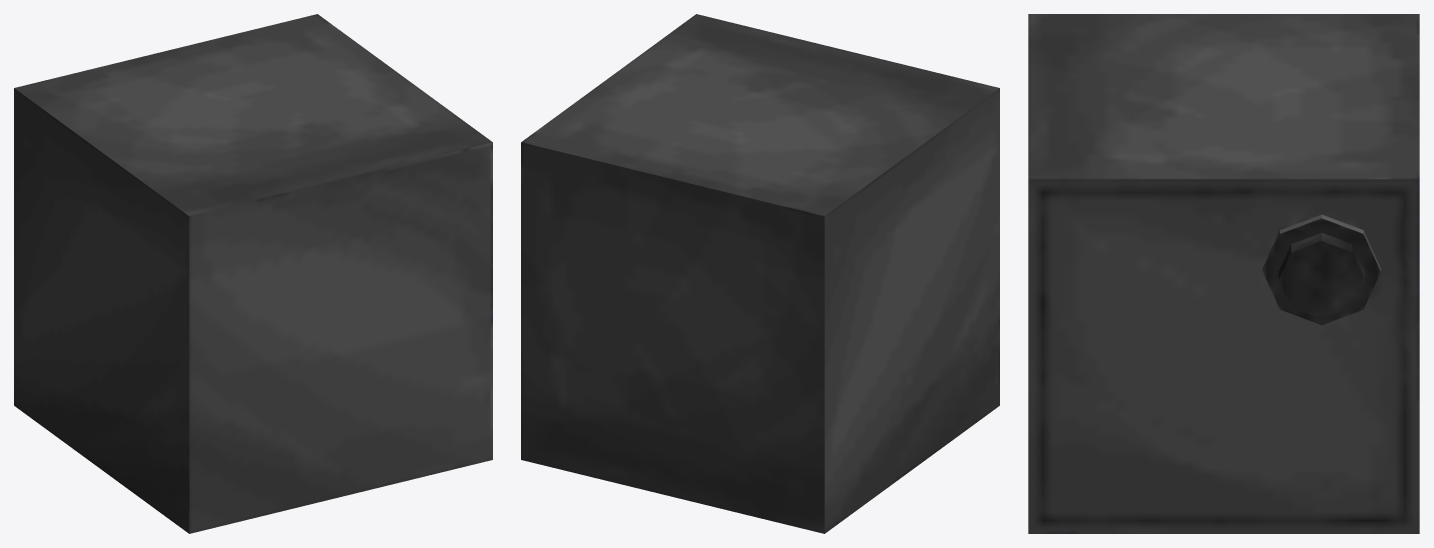
File: Safe.obj
The picture shows the model from 3 angles, left to right: view 1: azimuth 30°, elevation 25°; view 2: azimuth 150°, elevation 25°; view 3: azimuth 270°, elevation 25°; orthographic projection. The views are drawn at different scales.
Parts seen in each view (by area): view 1: Safe; view 2: Safe; view 3: Safe.
Part boxes in pixels (bbox=[...]): Safe: bbox=[14, 14, 492, 533]; Safe: bbox=[521, 14, 999, 533]; Safe: bbox=[1028, 14, 1419, 533].
Size of the model in its own units: 4.33 by 4.03 by 4.03.
